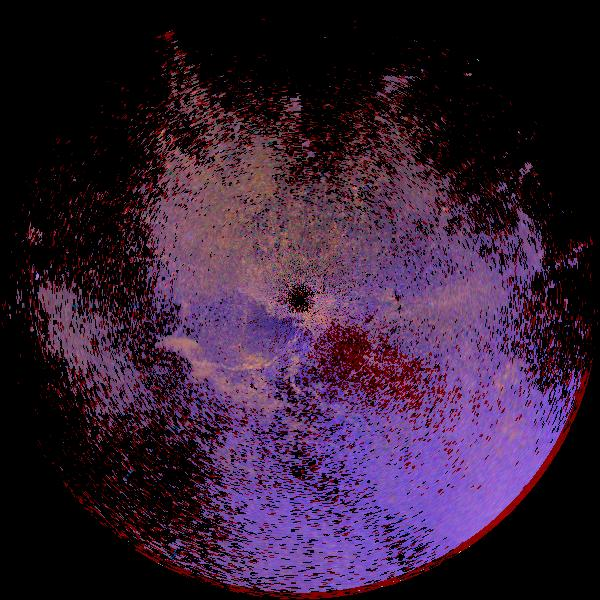roost: (129, 321, 222, 414)
